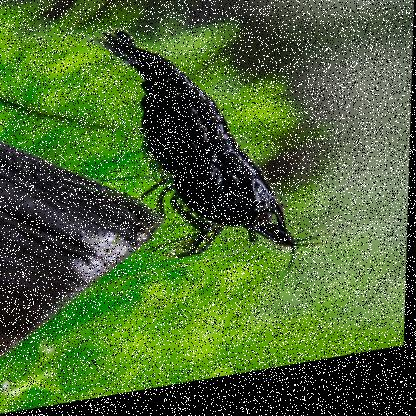shrimp: (82, 0, 340, 330)
